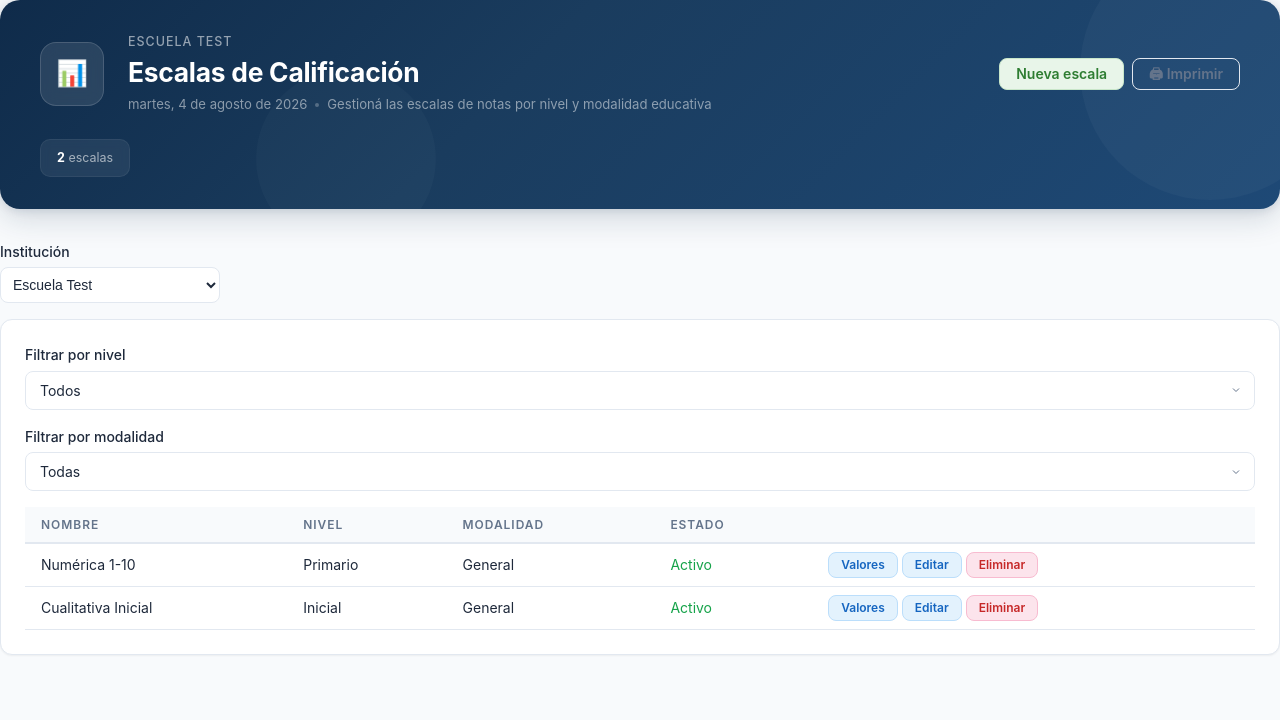
Test: GradingScalesPage — basic rendering › values section shows code, label and internalStatus for a scale
Check: the text "Numérica 1-10" is shown, box [25,543,287,587]
Click the button "Valores" in the row of "Numérica 1-10" at (863, 565), box [828,552,898,578]
(page scrolled)
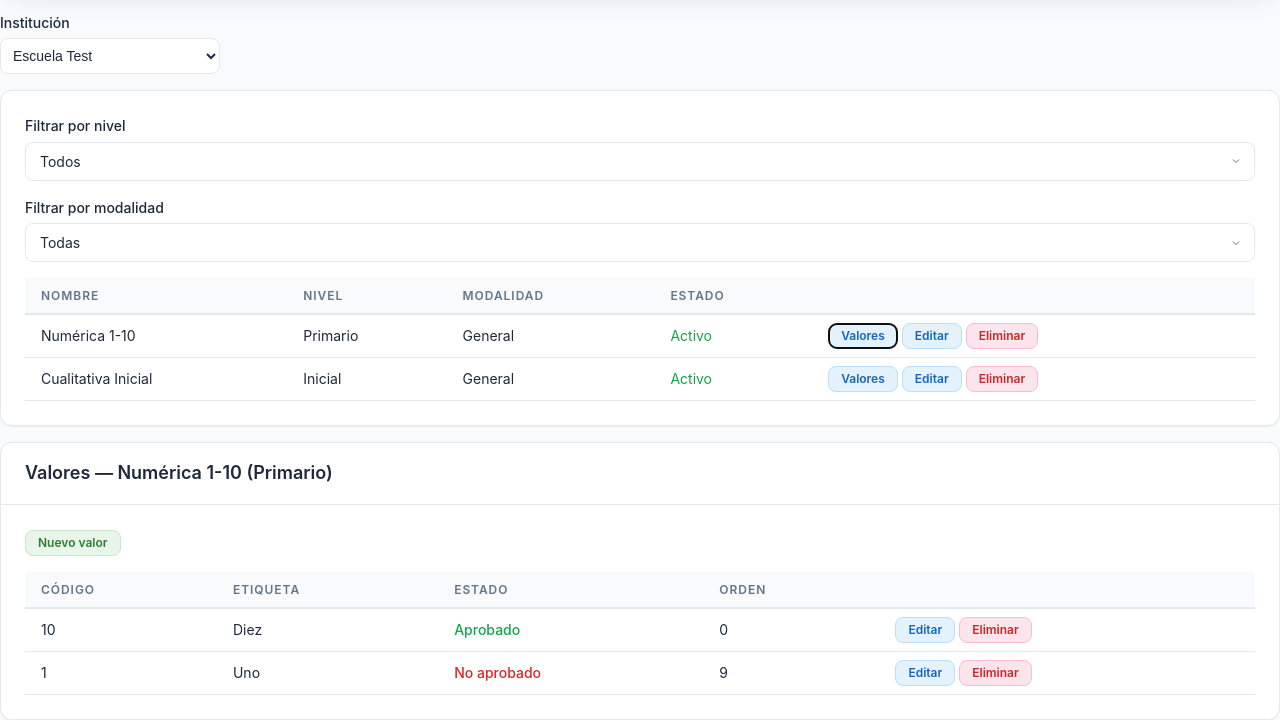
Check: the text "10" is shown, box [25,608,217,652]
Check: the text "Diez" is shown, box [217,608,438,652]
Check: the text "Aprobado" is shown, box [454,621,520,638]
